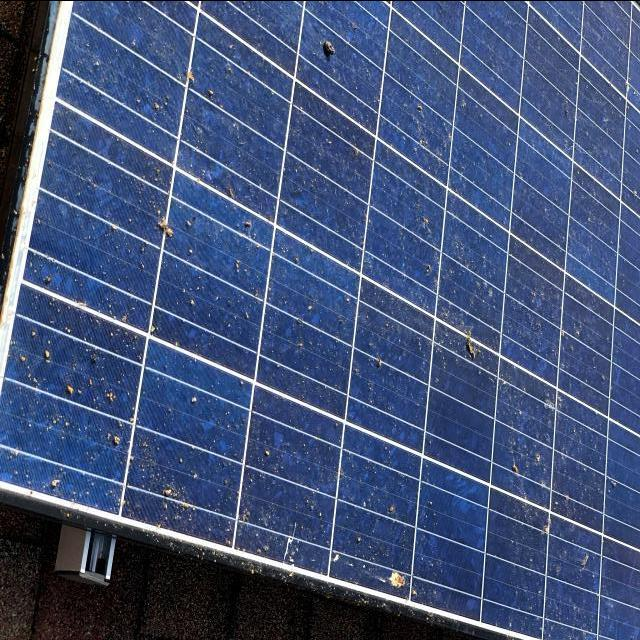soiled: (2, 3, 639, 632)
